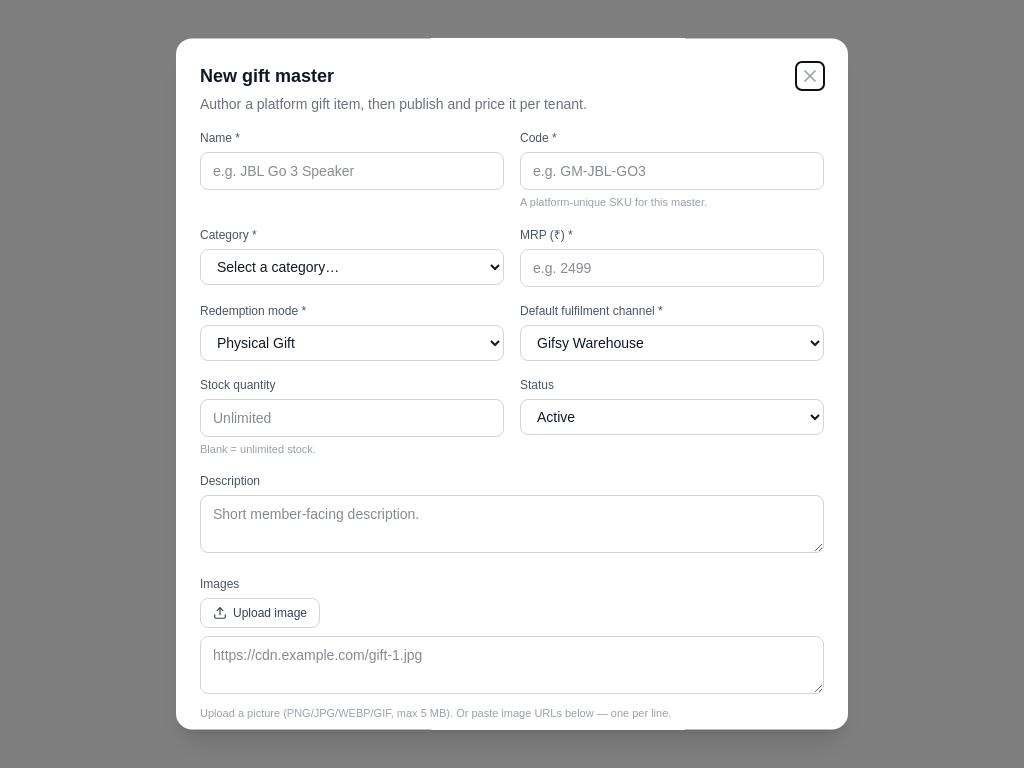
Test: MasterEditor — FIXED vs FLEXIBLE (free-amount) › hides the amount-type toggle for a physical (FIXED-only) mode; shows it for gift card
# Switch to GIFT_CARD → the toggle appears.
Select "Gift Card / Voucher" in the dropdown with test id "field-redemption-mode". click: (352, 343)
box: [200,325,504,361]
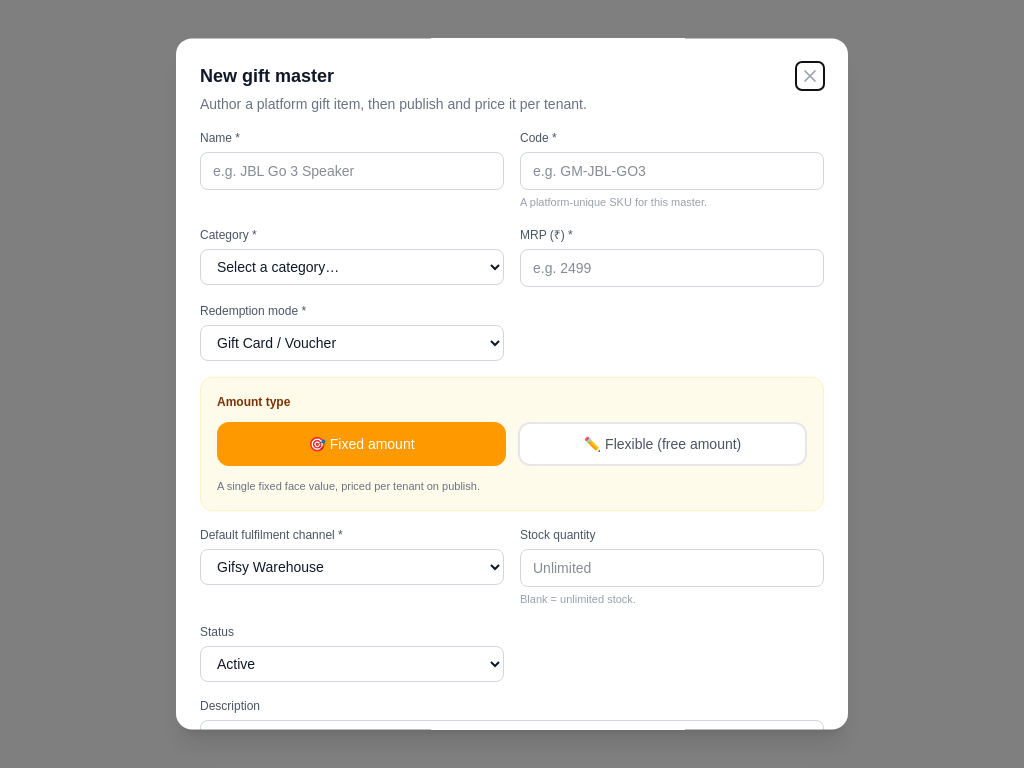
Now the element with test id "amount-type-section" is shown, box [200,377,824,511]
